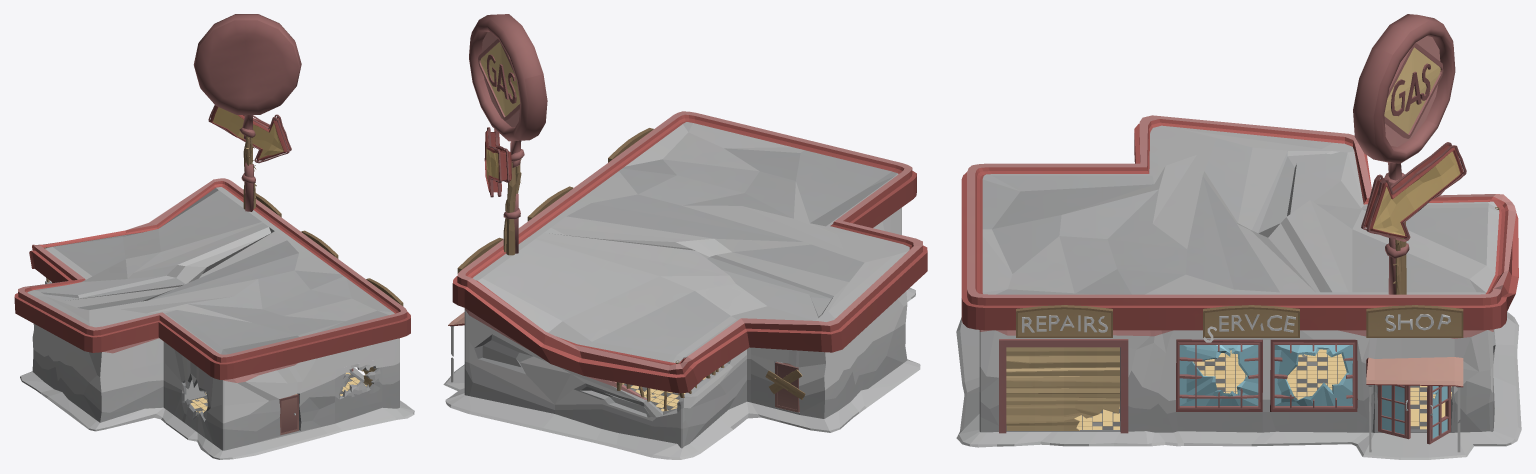
File: gas_Station_building_1.glb
3 views of the same model, side by side, from view 1: azimuth 30°, elevation 25°; view 2: azimuth 150°, elevation 25°; view 3: azimuth 270°, elevation 25° (orthographic). The views are drawn at different scales.
Parts seen in each view (by area): view 1: roof, building, gas_sign, wall_1_hole, door.004, ground_tiles; view 2: roof, building, gas_sign, door.001, ground_tiles, board_x; view 3: roof, building, gas_sign, garage_door, ground_tiles, window_panel_1, sign_service, sign_shop, sign_repairs, window_panel_2, door_left, window_bars_1 (+2 smaller).
Part boxes in pixels (x1,y1,x2,y2): roof: (14, 178, 410, 379); building: (20, 281, 414, 459); gas_sign: (193, 14, 301, 211); wall_1_hole: (335, 358, 382, 412); door.004: (279, 394, 298, 435); ground_tiles: (189, 372, 366, 415); roof: (452, 111, 927, 393); building: (443, 207, 920, 459); gas_sign: (469, 14, 547, 255); door.001: (775, 362, 799, 412); ground_tiles: (622, 367, 720, 411); board_x: (765, 369, 805, 399); roof: (961, 115, 1518, 330); building: (956, 311, 1521, 459); gas_sign: (1353, 14, 1466, 294); garage_door: (1006, 347, 1119, 430); ground_tiles: (1074, 349, 1451, 429); window_panel_1: (1179, 345, 1258, 405); sign_service: (1203, 305, 1299, 342); sign_shop: (1366, 305, 1463, 337); sign_repairs: (1016, 305, 1112, 337); window_panel_2: (1274, 345, 1352, 405); door_left: (1377, 385, 1410, 439); window_bars_1: (1178, 342, 1260, 409).
Bounding box in the file's own units: 12.41 × 11.75 × 14.39.
Materials: 1 (1 with a texture image).
